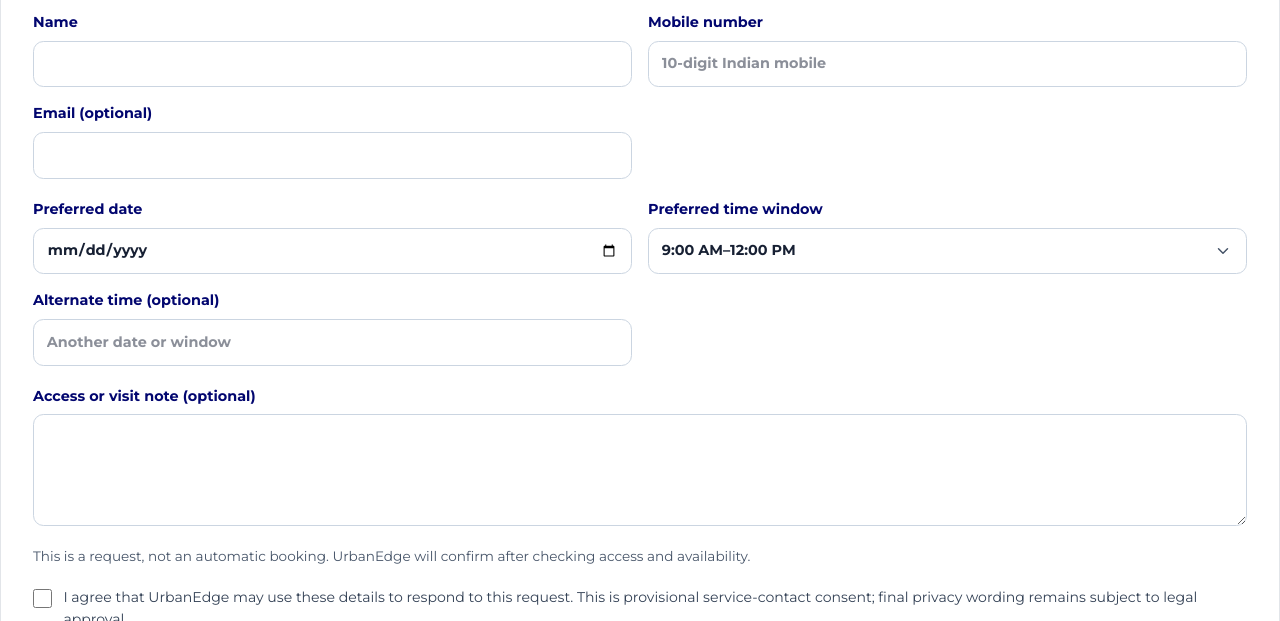
M13 public intake forms › makes the visit-request boundary explicit and keyboard-submittable
The image size is (1280, 621).
Expected: the text "not an automatic booking" is shown, [33, 548, 750, 564]
Type "Keyboard Visitor" into the field labelled "Name" at (332, 64), box [33, 41, 632, 87]
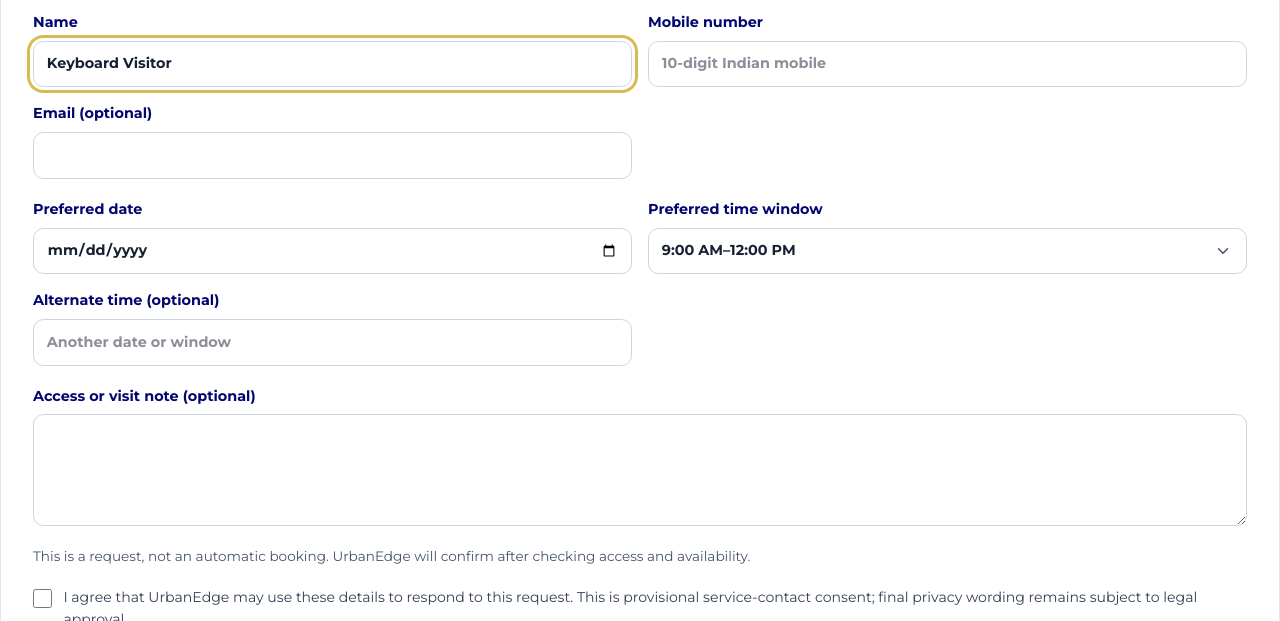
Type "9876543210" into the field labelled "Mobile number" at (948, 64), box [648, 41, 1247, 87]
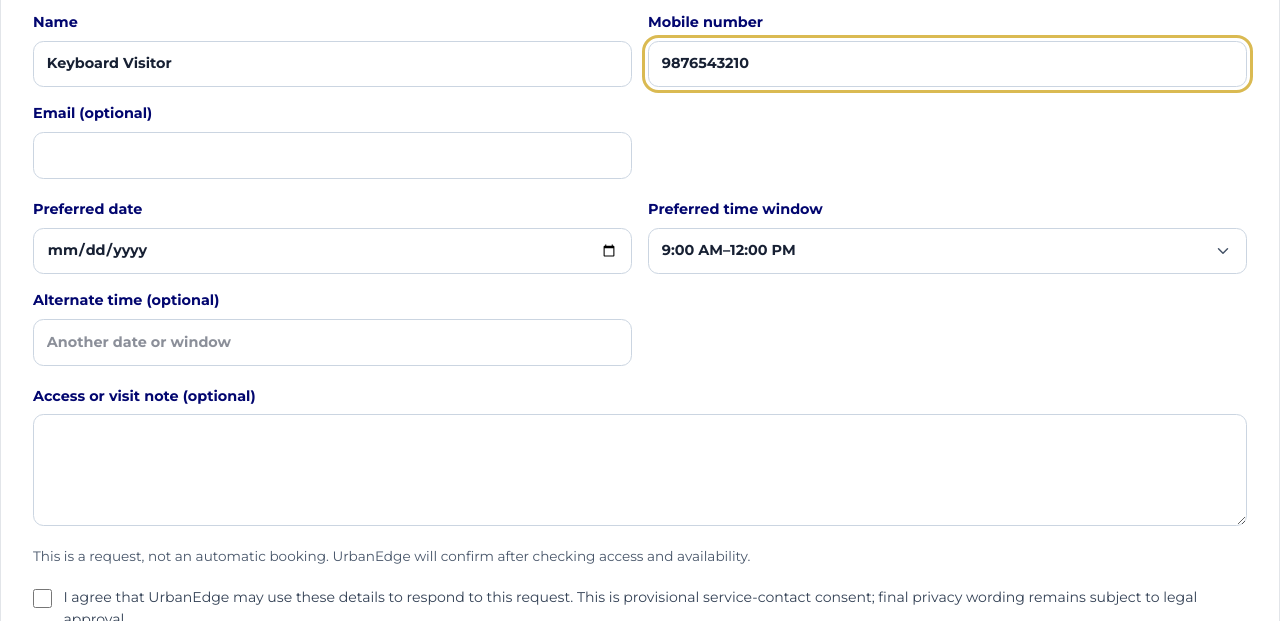
Type "2099-01-02" into the date field labelled "Preferred date" at (332, 251), box [33, 228, 632, 274]
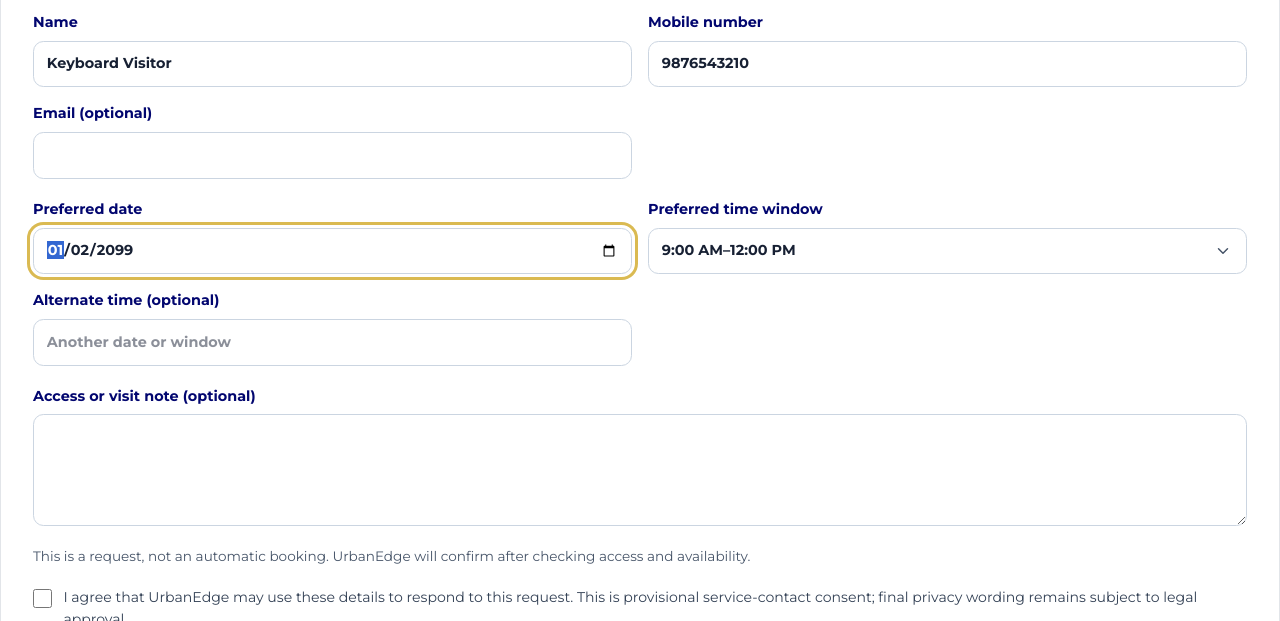
Click the checkbox at (43, 599), box [33, 589, 52, 608]
(page scrolled)
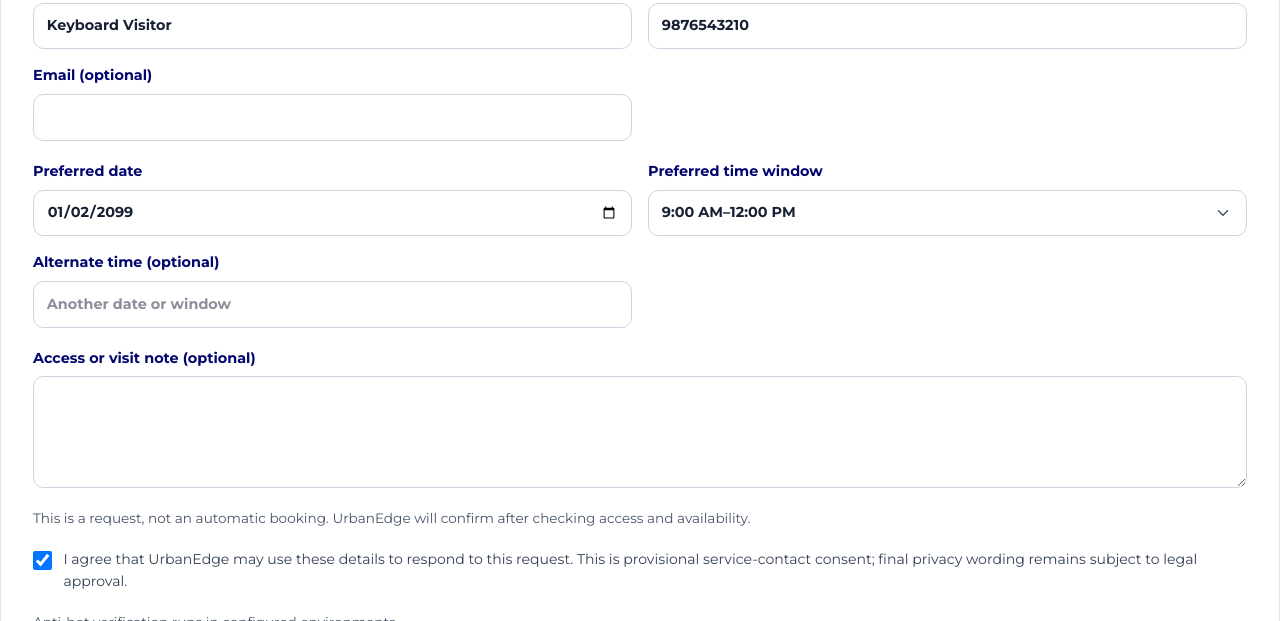
Press Enter
(page scrolled)
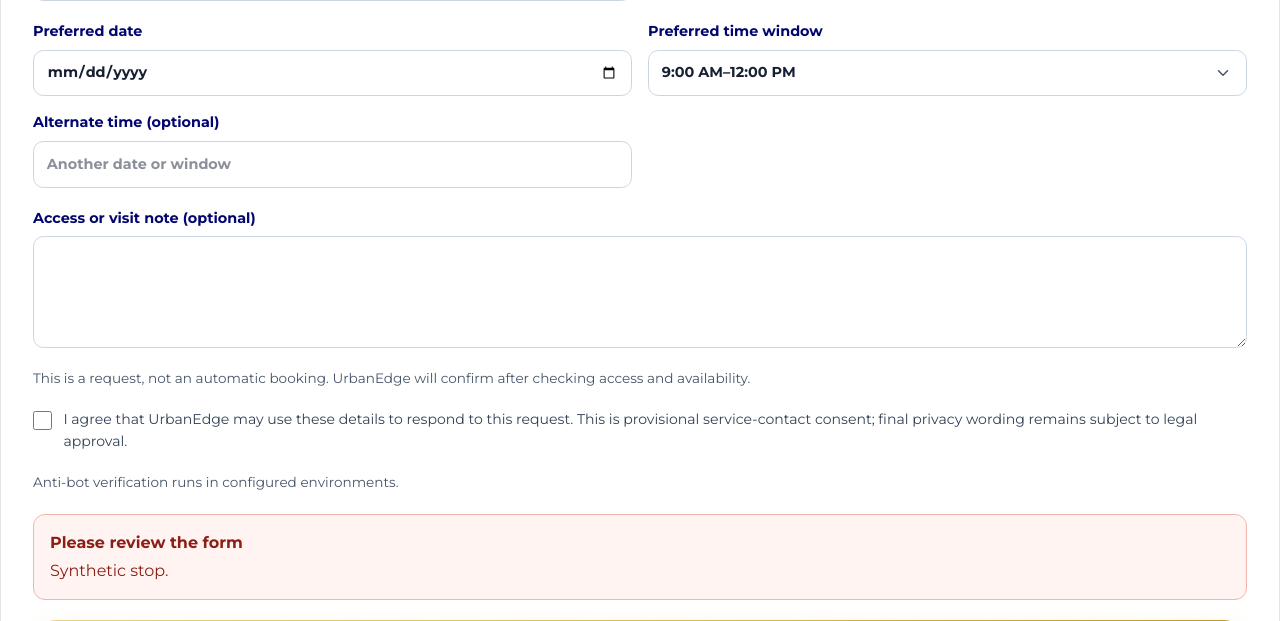
Now the message shows "Synthetic stop", box [50, 561, 168, 580]
